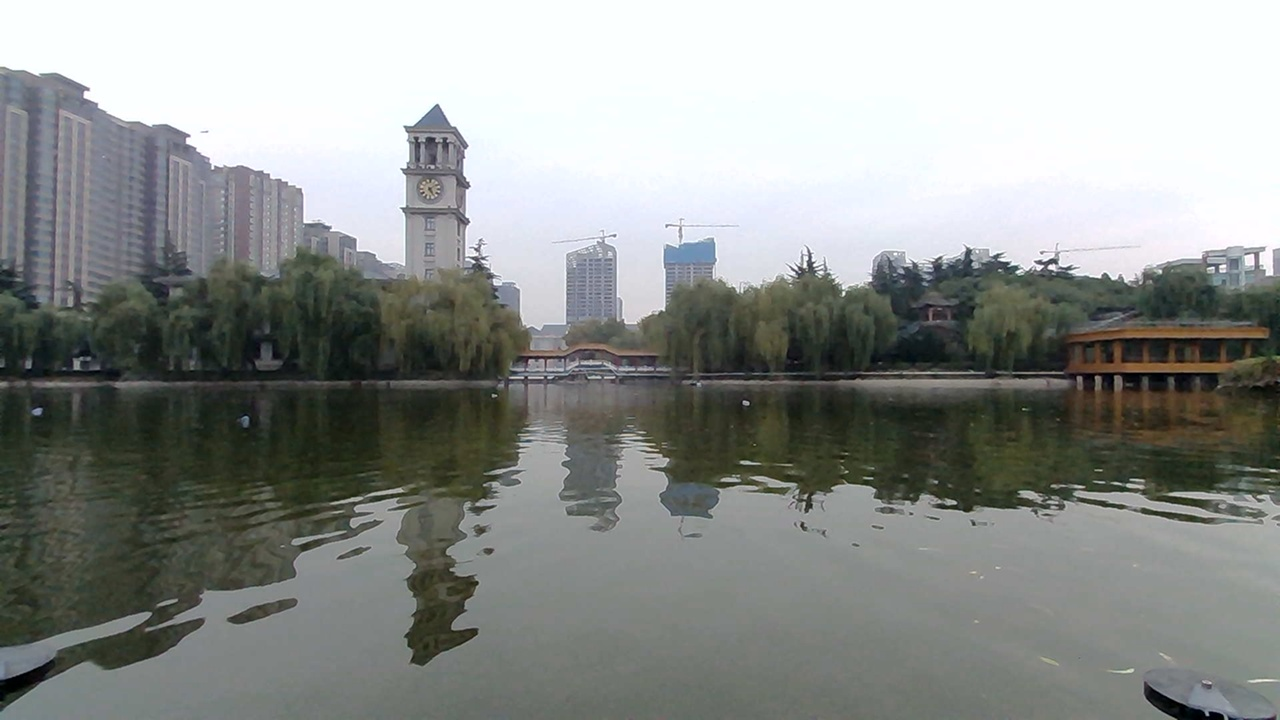bottle: (718, 391, 761, 415), (227, 409, 261, 431), (29, 395, 50, 423)
